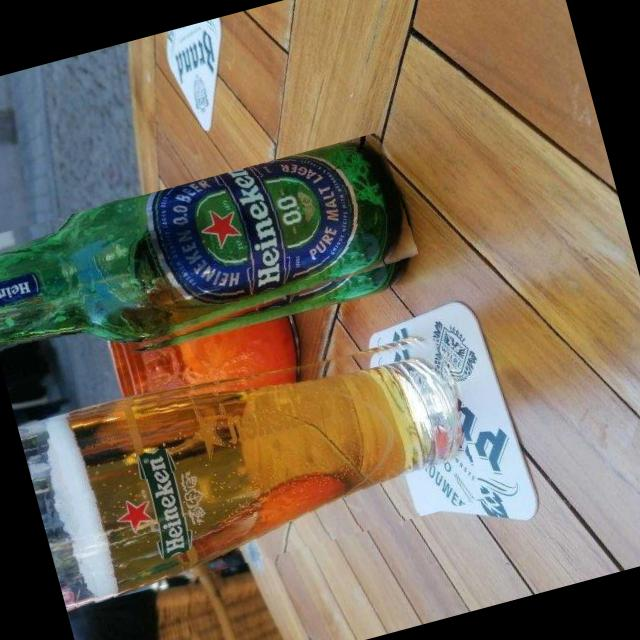Glass: (16, 314, 484, 610), (0, 129, 425, 392)
